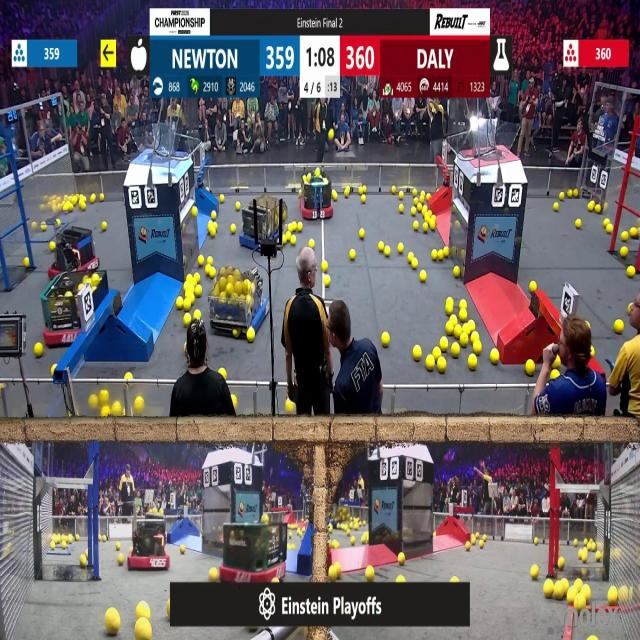ball_airborne: (328, 130, 333, 141)
ball_ground: (106, 611, 120, 637), (137, 602, 150, 618), (607, 588, 617, 606), (574, 593, 585, 608), (543, 582, 552, 599), (328, 565, 338, 580), (584, 586, 592, 603), (438, 357, 447, 372), (135, 397, 144, 412), (285, 400, 295, 413), (567, 588, 575, 604), (426, 356, 435, 370), (441, 338, 450, 352), (35, 343, 43, 358), (112, 403, 121, 416), (526, 360, 534, 374), (247, 328, 255, 342), (382, 334, 390, 348), (365, 566, 373, 580), (491, 350, 499, 364), (468, 355, 476, 369), (452, 344, 460, 358), (616, 320, 624, 333), (210, 568, 218, 581), (414, 347, 422, 360), (462, 321, 472, 331), (101, 407, 110, 418), (531, 565, 538, 579), (459, 310, 467, 322), (176, 296, 184, 308), (91, 395, 99, 407), (101, 391, 109, 403), (460, 334, 468, 346), (447, 302, 454, 315), (472, 343, 480, 354), (420, 272, 427, 284), (183, 314, 190, 326), (397, 554, 404, 566), (555, 356, 562, 368), (183, 300, 190, 312), (186, 294, 195, 303), (552, 368, 560, 378), (621, 247, 629, 257), (470, 333, 478, 343), (428, 220, 436, 230), (454, 324, 462, 334), (194, 285, 201, 296), (628, 268, 635, 279), (447, 323, 454, 334), (470, 322, 477, 333), (562, 577, 569, 588), (324, 275, 330, 287), (80, 555, 86, 567), (630, 229, 638, 238), (622, 233, 630, 242), (283, 234, 289, 246), (219, 366, 226, 376), (413, 220, 420, 230), (578, 552, 585, 562), (574, 578, 581, 588), (530, 281, 536, 292), (445, 247, 451, 258), (454, 268, 460, 279), (350, 249, 356, 260), (558, 558, 564, 569), (596, 552, 602, 563), (233, 395, 239, 406), (451, 575, 459, 583), (595, 204, 602, 213), (433, 348, 440, 357), (572, 188, 579, 197), (322, 263, 328, 273), (49, 242, 55, 252), (358, 230, 364, 240), (412, 261, 418, 271), (193, 310, 199, 320), (379, 242, 385, 252), (384, 247, 390, 257), (199, 256, 205, 266), (397, 244, 403, 254), (431, 250, 437, 260), (606, 223, 612, 233), (193, 274, 199, 284), (210, 268, 216, 278), (79, 202, 85, 212), (117, 555, 123, 565), (589, 202, 595, 212), (210, 228, 216, 238), (439, 251, 445, 261), (459, 301, 466, 309), (397, 575, 405, 582), (450, 316, 457, 324), (290, 236, 296, 245), (207, 256, 213, 265), (554, 203, 560, 212), (412, 207, 418, 216), (92, 193, 98, 202), (102, 221, 108, 230), (361, 535, 367, 544), (350, 536, 356, 545), (25, 257, 30, 267), (232, 223, 237, 233), (423, 221, 428, 231), (288, 221, 293, 231), (100, 192, 106, 200), (309, 240, 315, 248), (127, 373, 133, 381), (62, 540, 68, 548), (413, 188, 419, 196), (420, 194, 426, 202), (180, 543, 185, 552), (398, 205, 403, 214), (212, 211, 217, 220), (575, 219, 580, 228), (409, 252, 414, 261), (191, 208, 196, 217), (331, 190, 336, 199), (390, 186, 396, 193), (99, 538, 105, 545), (335, 540, 341, 547), (532, 537, 538, 544), (417, 205, 423, 212), (296, 222, 301, 230), (465, 541, 470, 549), (116, 540, 120, 550), (237, 203, 242, 211), (186, 275, 191, 283), (41, 222, 46, 230), (345, 189, 350, 197), (184, 282, 188, 292), (591, 348, 596, 356), (220, 193, 224, 202), (234, 329, 238, 338), (50, 364, 54, 373), (398, 191, 403, 198), (361, 186, 366, 193), (361, 194, 365, 202), (560, 191, 564, 199), (568, 189, 572, 197), (426, 192, 430, 200), (470, 538, 475, 544), (481, 540, 485, 547), (76, 534, 80, 541), (590, 636, 597, 640), (347, 528, 351, 535), (84, 550, 88, 556), (50, 542, 54, 548), (483, 534, 487, 540)
goal: (464, 122, 522, 160), (129, 129, 188, 161)
robot_blue: (206, 269, 266, 335), (240, 193, 284, 251)
robot_red: (218, 519, 288, 584), (43, 274, 83, 348), (129, 516, 170, 571), (300, 172, 333, 220)
